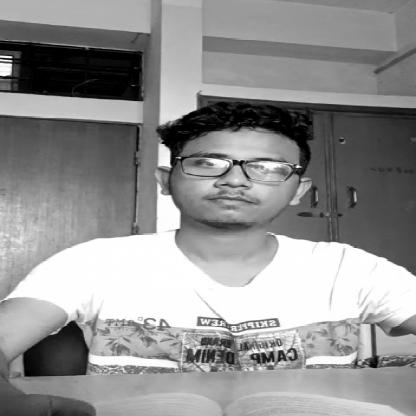Normal: (131, 114, 320, 225)
